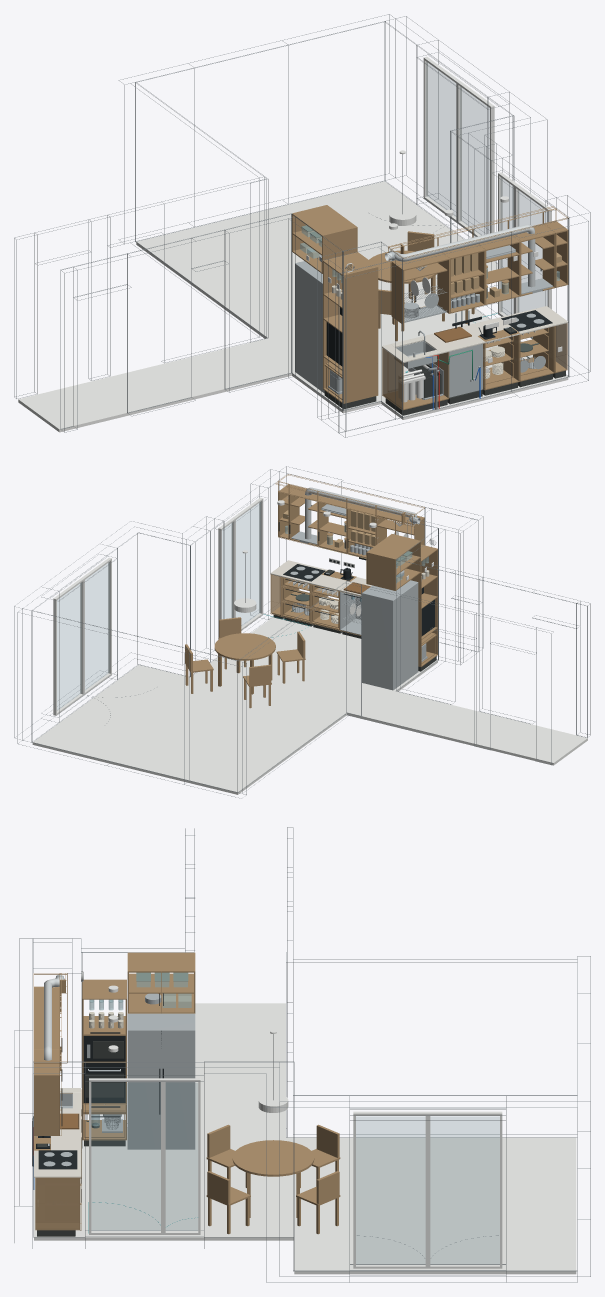
File: kitchen_inspection.glb
The picture shows the model from 3 angles, top to bottom: view 1: azimuth 30°, elevation 25°; view 2: azimuth 150°, elevation 25°; view 3: azimuth 270°, elevation 25°; orthographic projection. The views are drawn at different scales.
Parts seen in each view (by area): view 1: Kitchen layer 30, Kitchen layer 42, Kitchen layer 03, Kitchen layer 43, Kitchen layer 05, Kitchen layer 18, Kitchen layer 06, Kitchen layer 26, Kitchen layer 02, Kitchen layer 08, Kitchen layer 31, Kitchen layer 14 (+6 smaller); view 2: Kitchen layer 30, Kitchen layer 42, Kitchen layer 05, Kitchen layer 43, Kitchen layer 03, Kitchen layer 02, Kitchen layer 31, Kitchen layer 18, Kitchen layer 26, Kitchen layer 34, Kitchen layer 08, Kitchen layer 06 (+2 smaller); view 3: Kitchen layer 30, Kitchen layer 43, Kitchen layer 02, Kitchen layer 05, Kitchen layer 42, Kitchen layer 31, Kitchen layer 03, Kitchen layer 18, Kitchen layer 06, Kitchen layer 26, Kitchen layer 34, Kitchen layer 28 (+2 smaller).
Part boxes in pixels (<box>): Kitchen layer 30: <box>18,181,568,432</box>; Kitchen layer 42: <box>14,14,590,437</box>; Kitchen layer 03: <box>323,221,568,415</box>; Kitchen layer 43: <box>423,56,494,236</box>; Kitchen layer 05: <box>295,261,552,397</box>; Kitchen layer 18: <box>292,205,567,302</box>; Kitchen layer 06: <box>382,306,568,368</box>; Kitchen layer 26: <box>300,225,561,378</box>; Kitchen layer 02: <box>498,172,551,339</box>; Kitchen layer 08: <box>398,327,548,402</box>; Kitchen layer 31: <box>369,231,474,341</box>; Kitchen layer 14: <box>345,224,535,287</box>; Kitchen layer 30: <box>32,617,587,794</box>; Kitchen layer 42: <box>14,466,590,798</box>; Kitchen layer 05: <box>291,531,434,690</box>; Kitchen layer 43: <box>53,557,111,715</box>; Kitchen layer 03: <box>271,484,437,671</box>; Kitchen layer 02: <box>218,497,263,639</box>; Kitchen layer 31: <box>185,617,305,708</box>; Kitchen layer 18: <box>278,484,423,590</box>; Kitchen layer 26: <box>283,504,429,623</box>; Kitchen layer 34: <box>270,474,424,635</box>; Kitchen layer 08: <box>283,578,338,627</box>; Kitchen layer 06: <box>270,560,371,596</box>; Kitchen layer 30: <box>34,1003,576,1274</box>; Kitchen layer 43: <box>353,1111,502,1268</box>; Kitchen layer 02: <box>89,1078,200,1234</box>; Kitchen layer 05: <box>83,1013,195,1149</box>; Kitchen layer 42: <box>14,827,590,1282</box>; Kitchen layer 31: <box>206,1124,340,1234</box>; Kitchen layer 03: <box>34,979,126,1236</box>; Kitchen layer 18: <box>34,952,195,1125</box>; Kitchen layer 06: <box>34,1088,81,1177</box>; Kitchen layer 26: <box>89,972,191,1028</box>; Kitchen layer 34: <box>33,971,195,1230</box>; Kitchen layer 28: <box>83,1104,125,1137</box>.
Bounding box in the file's own units: 8.9 × 2.65 × 7.75.
